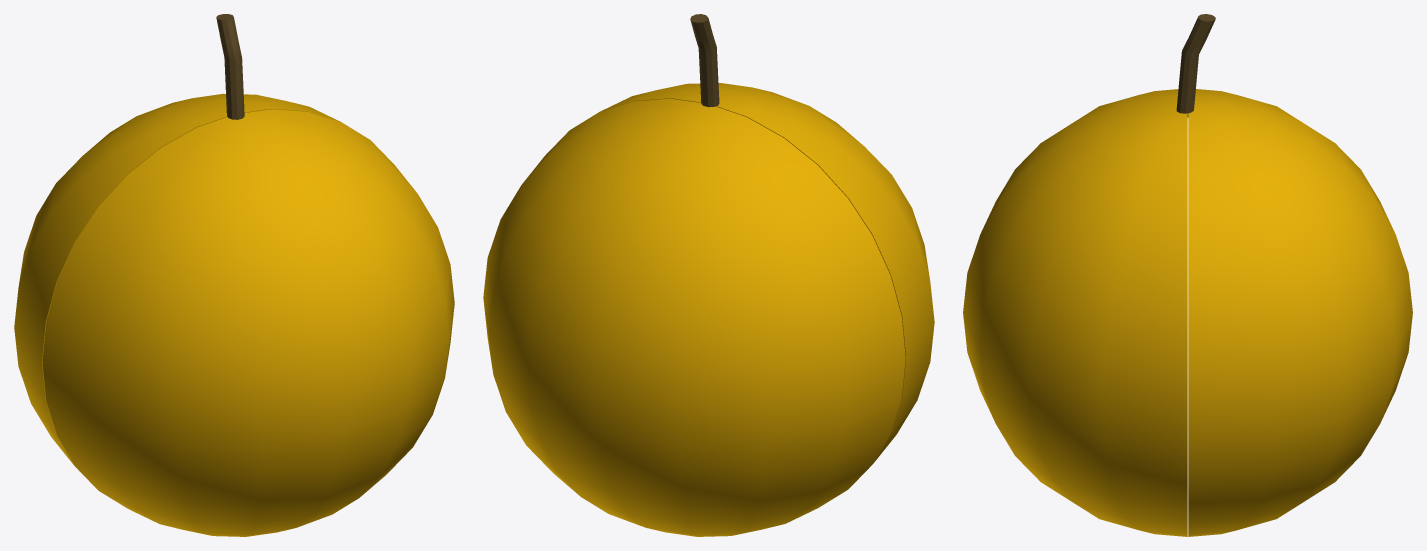
File: portakal.fbx
3 views of the same model, side by side, from view 1: azimuth 30°, elevation 25°; view 2: azimuth 150°, elevation 25°; view 3: azimuth 270°, elevation 25° (orthographic). The views are drawn at different scales.
Parts seen in each view (by area): view 1: polySurface5, polySurface4, sap; view 2: polySurface4, polySurface5, sap; view 3: polySurface4, polySurface5, sap.
Part boxes in pixels (x1,y1,x2,y2): polySurface5: [42, 109, 454, 536]; polySurface4: [14, 93, 340, 484]; sap: [216, 14, 244, 119]; polySurface4: [483, 98, 905, 536]; polySurface5: [600, 83, 934, 482]; sap: [690, 14, 719, 107]; polySurface4: [1188, 89, 1412, 536]; polySurface5: [963, 89, 1187, 536]; sap: [1176, 14, 1215, 117].
Size of the model in its own units: 2 by 2.45 by 2.
